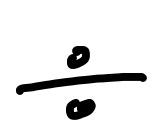div: (16, 46, 146, 118)
